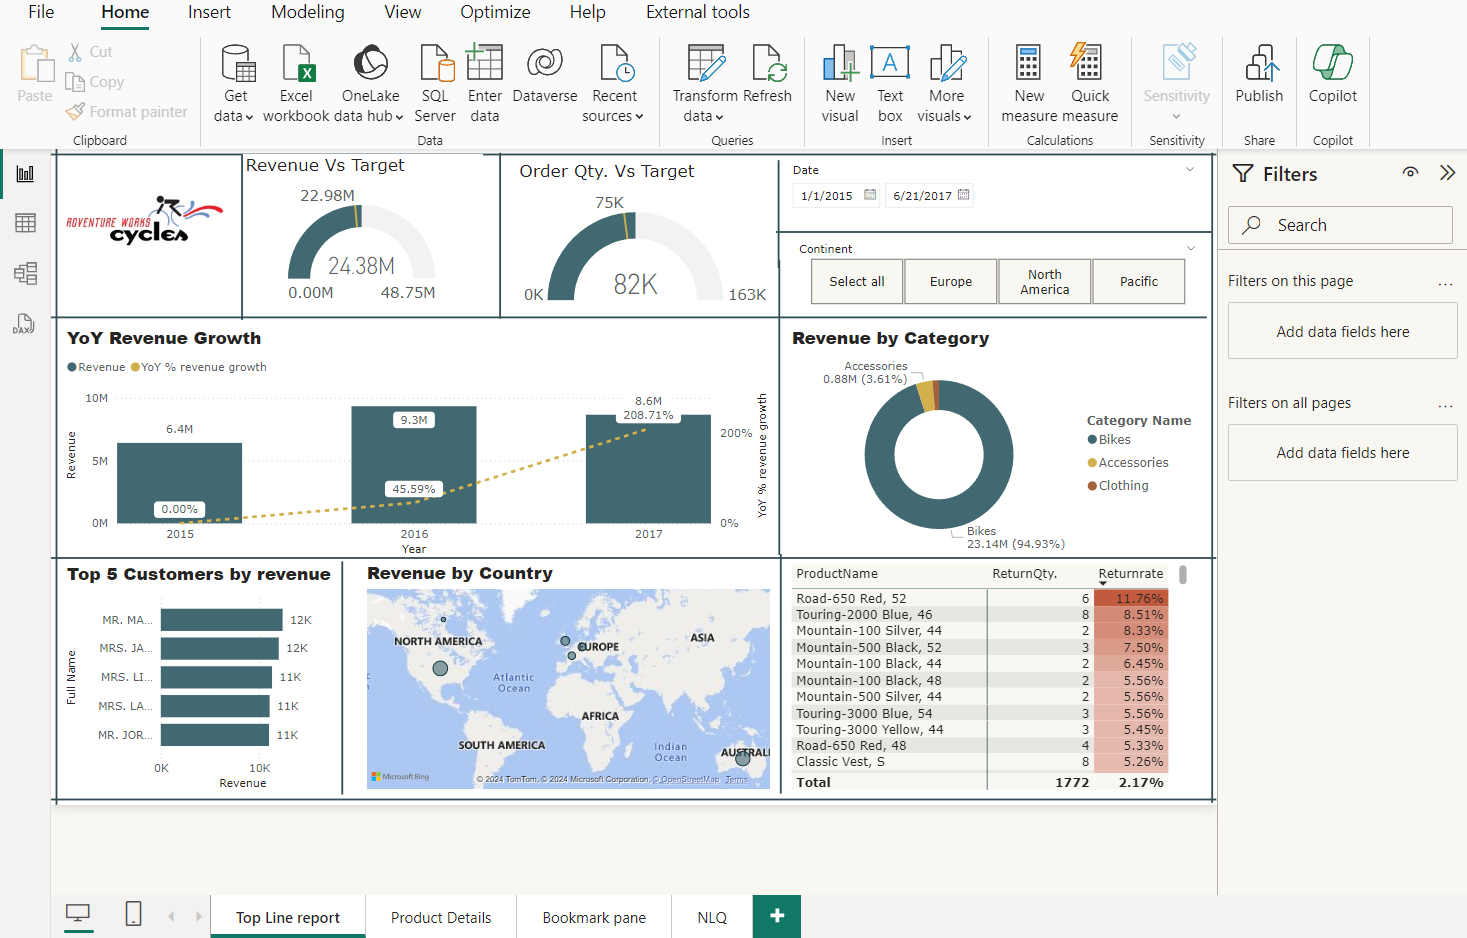

The page's visual inventory and layout, read from the dashboard file:
{"tool":"powerbi","page":{"name":"Top Line report","canvas":[1280,720],"ordinal":0},"visuals":[{"type":"image","box":[12.1,0,183.3,156.8],"z":0},{"type":"lineStackedColumnComboChart","title":"YoY Revenue Growth","fields":{"Category":["d-Calendar.Year"],"Y":["All Measures.Revenue"],"Y2":["All Measures.YoY % revenue growth"]},"box":[12.1,193,782.7,258.1],"z":1000},{"type":"donutChart","title":"Revenue by Category ","fields":{"Y":["All Measures.Revenue"],"Category":["d-ProductCategories.Category Name"]},"box":[808,193,460.7,258.1],"z":2000},{"type":"shape","box":[794.8,12.1,8.4,118.2],"z":3000},{"type":"shape","box":[0,446.2,1279.6,6],"z":4000},{"type":"shape","box":[0,177.3,1268.7,15.7],"z":5000},{"type":"barChart","title":"Top 5 Customers by revenue","fields":{"Y":["All Measures.Revenue"],"Category":["d-Customers.Full Name"]},"box":[12.1,452.3,305.1,255.7],"z":6000},{"type":"shape","box":[0,707.9,1279.6,12.1],"z":7000},{"type":"shape","box":[0,0,1279.6,12.1],"z":8000},{"type":"shape","box":[1268.7,3.6,10.9,714],"z":9000},{"type":"shape","box":[0,0,12.1,720],"z":10000},{"type":"map","fields":{"Category":["d-Territories.Country"],"Size":["All Measures.Revenue"]},"box":[341.3,451.1,453.5,256.9],"z":11000},{"type":"shape","box":[794.8,445,13.3,262.9],"z":12000},{"type":"pivotTable","fields":{"Rows":["d-Products.ProductName"],"Values":["All Measures.Total return Qty.","All Measures.Return rate"]},"box":[808,451.1,443.8,256.9],"z":13000},{"type":"gauge","title":"Revenue Vs Target","fields":{"Y":["All Measures.Revenue"],"TargetValue":["All Measures.Target Revenue"]},"box":[208.6,6,265.3,171.3],"z":14000},{"type":"shape","box":[202.6,6,13.3,182.1],"z":15000},{"type":"shape","box":[486,3.6,14.5,182.1],"z":16000},{"type":"shape","box":[796,121.8,7.2,323.2],"z":17000},{"type":"gauge","title":"Order Qty. Vs Target","fields":{"Y":["All Measures.Total Order Qty."],"TargetValue":["All Measures.Target Order Qty"]},"box":[508.9,12.1,285.8,165.2],"z":18000},{"type":"slicer","fields":{"Values":["d-Calendar.Date"]},"box":[802,10.9,466.7,72.4],"z":19000},{"type":"slicer","fields":{"Values":["d-Territories.Continent"]},"box":[808,97.7,460.7,79.6],"z":20000},{"type":"shape","box":[796,85.6,478.8,12.1],"z":21000},{"type":"shape","box":[309.9,452.3,19.3,255.7],"z":22000}]}

Visuals, with their boxes on the page's 1280x720 design canvas (x1, y1, x2, y2). These are canvas units, not pixel positions in the 1467x938 screenshot, which may show the page scaled, cropped or inside an application window:
image: 12/0/195/157
"YoY Revenue Growth" lineStackedColumnComboChart: 12/193/795/451
"Revenue by Category " donutChart: 808/193/1269/451
shape: 795/12/803/130
shape: 0/446/1280/452
shape: 0/177/1269/193
"Top 5 Customers by revenue" barChart: 12/452/317/708
shape: 0/708/1280/720
shape: 0/0/1280/12
shape: 1269/4/1280/718
shape: 0/0/12/720
map - d-Territories.Country x All Measures.Revenue: 341/451/795/708
shape: 795/445/808/708
pivotTable - d-Products.ProductName x All Measures.Total return Qty.: 808/451/1252/708
"Revenue Vs Target" gauge: 209/6/474/177
shape: 203/6/216/188
shape: 486/4/500/186
shape: 796/122/803/445
"Order Qty. Vs Target" gauge: 509/12/795/177
slicer - d-Calendar.Date: 802/11/1269/83
slicer - d-Territories.Continent: 808/98/1269/177
shape: 796/86/1275/98
shape: 310/452/329/708
